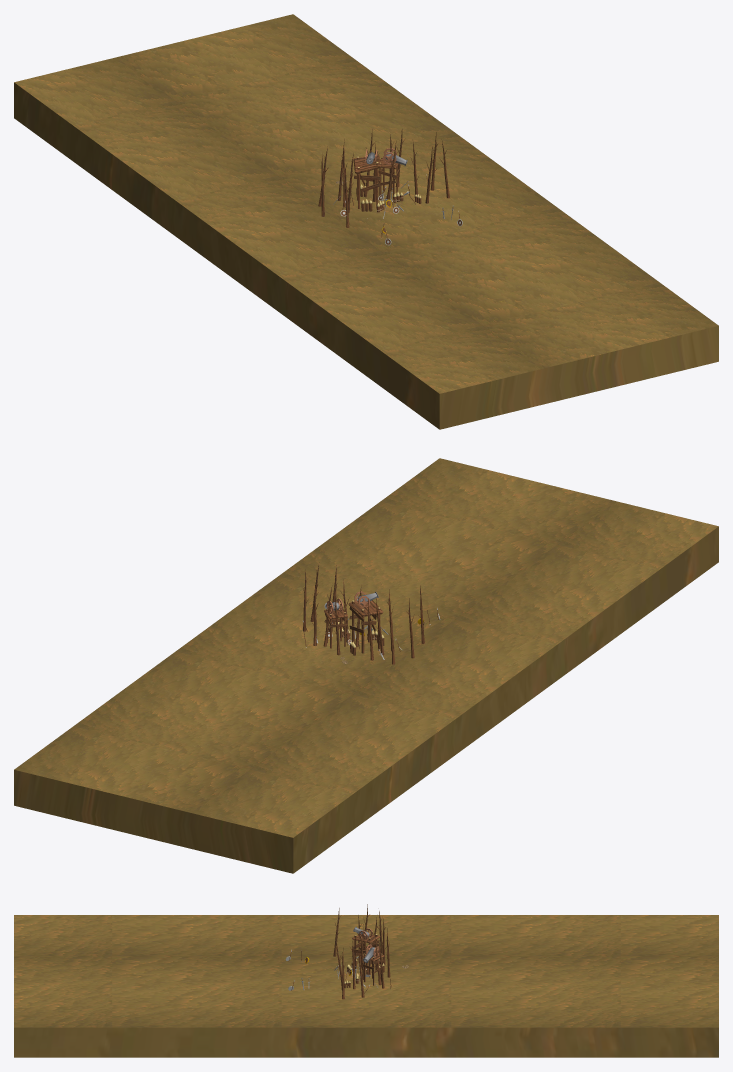
File: new_environment_10.fbx
3 renders of one model, top to bottom at view 1: azimuth 30°, elevation 25°; view 2: azimuth 150°, elevation 25°; view 3: azimuth 270°, elevation 25°, orthographic. The views are drawn at different scales.
Parts seen in each view (by area): view 1: pCube1, polySurface1518, polySurface1634, polySurface1633, polySurface1632; view 2: pCube1, polySurface1518, polySurface1486, polySurface1633; view 3: pCube1, polySurface1634, polySurface1518, polySurface1486, polySurface1632, polySurface1633.
Boxes of the visible parts, x1,y1,x2,y2 form: pCube1: [14, 14, 718, 429]; polySurface1518: [353, 149, 380, 208]; polySurface1634: [395, 129, 449, 203]; polySurface1633: [318, 143, 353, 227]; polySurface1632: [378, 148, 407, 198]; pCube1: [14, 458, 718, 873]; polySurface1518: [348, 591, 383, 653]; polySurface1486: [323, 579, 373, 660]; polySurface1633: [376, 585, 424, 664]; pCube1: [14, 915, 718, 1057]; polySurface1634: [335, 937, 384, 999]; polySurface1518: [352, 927, 380, 974]; polySurface1486: [360, 918, 390, 985]; polySurface1632: [362, 944, 384, 985]; polySurface1633: [333, 904, 382, 964].
Size of the model in its own units: 258 by 86.49 by 682.
Materials: 6 (5 with a texture image).
